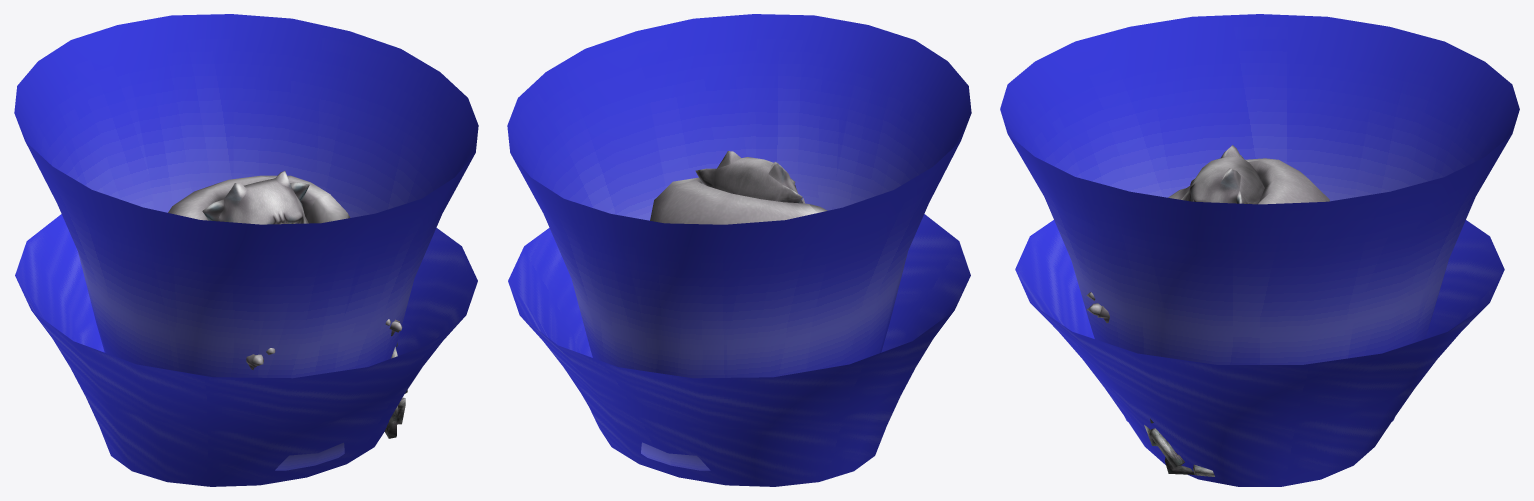
Rendered from Lead Idol.fbx.
The picture shows the model from 3 angles, left to right: view 1: azimuth 30°, elevation 25°; view 2: azimuth 150°, elevation 25°; view 3: azimuth 270°, elevation 25°; orthographic projection.
Visible parts, largest first — view 1: Top Effect, Bottom Effect, Body, Base; view 2: Top Effect, Bottom Effect, Body; view 3: Top Effect, Bottom Effect, Body.
Part boxes in pixels (x1,y1,x2,y2): Top Effect: [14, 14, 478, 470]; Bottom Effect: [15, 214, 477, 486]; Body: [168, 171, 407, 438]; Base: [246, 194, 399, 369]; Top Effect: [507, 14, 971, 470]; Bottom Effect: [508, 214, 970, 486]; Body: [650, 151, 817, 224]; Top Effect: [1000, 14, 1519, 421]; Bottom Effect: [1015, 220, 1504, 486]; Body: [1086, 145, 1329, 476].
Size of the model in its own units: 1770 by 1369 by 2034.
